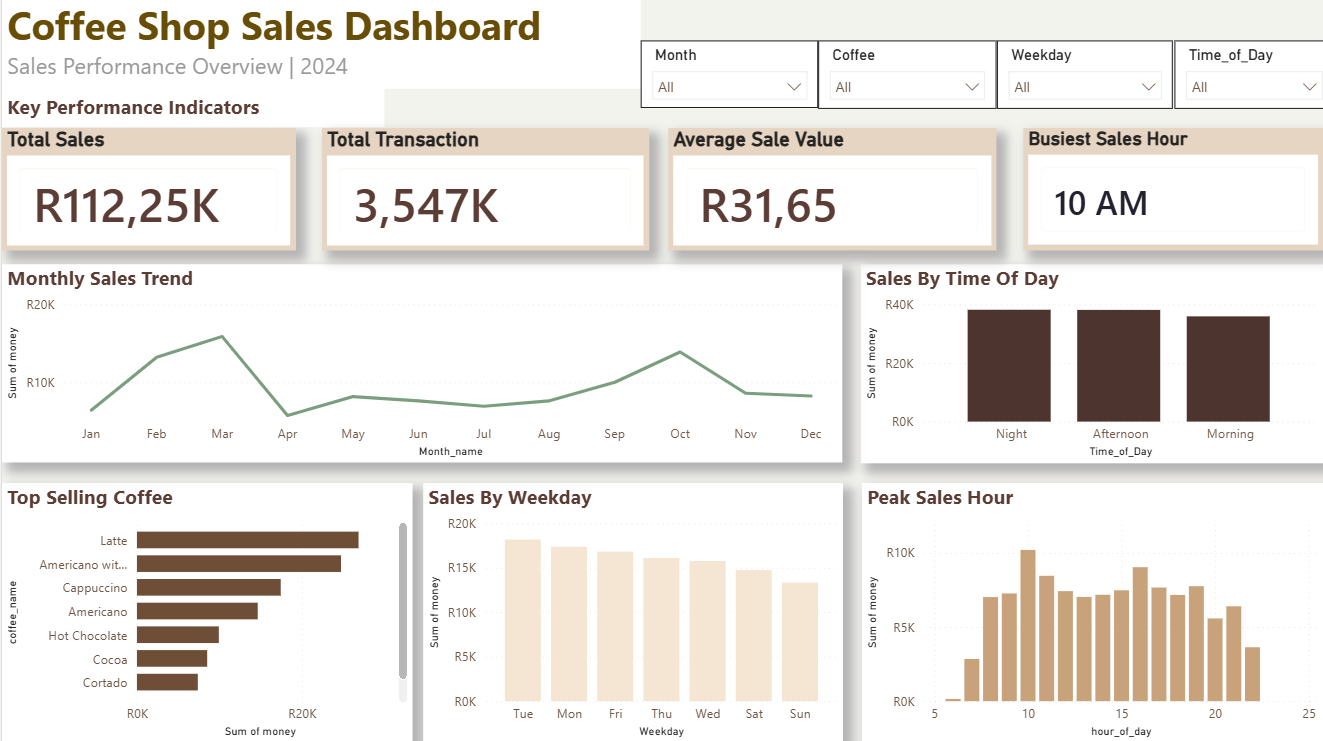

The page's visual inventory and layout, read from the dashboard file:
{"tool":"powerbi","page":{"name":"Page 1","canvas":[1280,720],"ordinal":0},"visuals":[{"type":"cardVisual","title":"Total Sales","fields":{"Data":["Sum(Coffee_shop sales_cleaned.money)"]},"box":[0,129.1,282.6,117.6],"z":0},{"type":"clusteredBarChart","title":"Top Selling Coffee","fields":{"Category":["Coffee_shop sales_cleaned.coffee_name"],"Y":["Sum(Coffee_shop sales_cleaned.money)"]},"box":[0,470.5,394.4,249.6],"z":1000},{"type":"clusteredColumnChart","title":"Sales By Time Of Day","fields":{"Category":["Coffee_shop sales_cleaned.Time_of_Day"],"Y":["Sum(Coffee_shop sales_cleaned.money)"]},"box":[824.8,260.9,444.6,191.2],"z":2000},{"type":"clusteredColumnChart","title":"Sales By Weekday","fields":{"Category":["Coffee_shop sales_cleaned.Weekday"],"Y":["Sum(Coffee_shop sales_cleaned.money)"]},"box":[404.5,470.5,403.1,249.6],"z":3000},{"type":"lineChart","title":"Monthly Sales Trend","fields":{"Category":["Coffee_shop sales_cleaned.Month_name"],"Y":["Sum(Coffee_shop sales_cleaned.money)"]},"box":[0,261.1,807.5,190.8],"z":4000},{"type":"textbox","box":[7,0,614,91.9],"z":5000},{"type":"textbox","box":[0,91.8,367.2,37.3],"z":6000},{"type":"cardVisual","title":"Total Transaction","fields":{"Data":["CountNonNull(Coffee_shop sales_cleaned.cash_type)"]},"box":[307,129.1,314.1,117.6],"z":7000},{"type":"cardVisual","title":"Average Sale Value","fields":{"Data":["Avg(Coffee_shop sales_cleaned.money)"]},"box":[639.7,129.1,315.6,117.6],"z":8000},{"type":"clusteredColumnChart","title":"Peak Sales Hour","fields":{"Y":["Sum(Coffee_shop sales_cleaned.money)"],"Category":["Coffee_shop sales_cleaned.hour_of_day"]},"box":[826.2,470.5,443.2,249.6],"z":9000},{"type":"slicer","fields":{"Values":["Coffee_shop sales_cleaned.Month_name"]},"box":[613.9,45.9,170.7,64.5],"z":10000},{"type":"slicer","fields":{"Values":["Coffee_shop sales_cleaned.coffee_name"]},"box":[784.7,45.4,171.1,65.5],"z":11000},{"type":"slicer","fields":{"Values":["Coffee_shop sales_cleaned.Weekday"]},"box":[955.8,45.4,169,65.5],"z":12000},{"type":"slicer","fields":{"Values":["Coffee_shop sales_cleaned.Time_of_Day"]},"box":[1125.8,45.4,153.1,65.5],"z":13000},{"type":"cardVisual","title":"Busiest Sales Hour","fields":{"Data":["Coffee_shop sales_cleaned.Busiest Hour"]},"box":[981.1,129.1,288.3,117.6],"z":14000}]}

Visuals, with their boxes in screenshot pixels (x1, y1, x2, y2), scaled from the page's 1280x720 canvas onto the 1323x741 screenshot:
"Total Sales" cardVisual: rect(0, 133, 292, 254)
"Top Selling Coffee" clusteredBarChart: rect(0, 484, 408, 740)
"Sales By Time Of Day" clusteredColumnChart: rect(853, 269, 1312, 465)
"Sales By Weekday" clusteredColumnChart: rect(418, 484, 835, 740)
"Monthly Sales Trend" lineChart: rect(0, 269, 835, 465)
textbox: rect(7, 0, 642, 95)
textbox: rect(0, 94, 380, 133)
"Total Transaction" cardVisual: rect(317, 133, 642, 254)
"Average Sale Value" cardVisual: rect(661, 133, 987, 254)
"Peak Sales Hour" clusteredColumnChart: rect(854, 484, 1312, 740)
slicer - Coffee_shop sales_cleaned.Month_name: rect(635, 47, 811, 114)
slicer - Coffee_shop sales_cleaned.coffee_name: rect(811, 47, 988, 114)
slicer - Coffee_shop sales_cleaned.Weekday: rect(988, 47, 1163, 114)
slicer - Coffee_shop sales_cleaned.Time_of_Day: rect(1164, 47, 1322, 114)
"Busiest Sales Hour" cardVisual: rect(1014, 133, 1312, 254)
